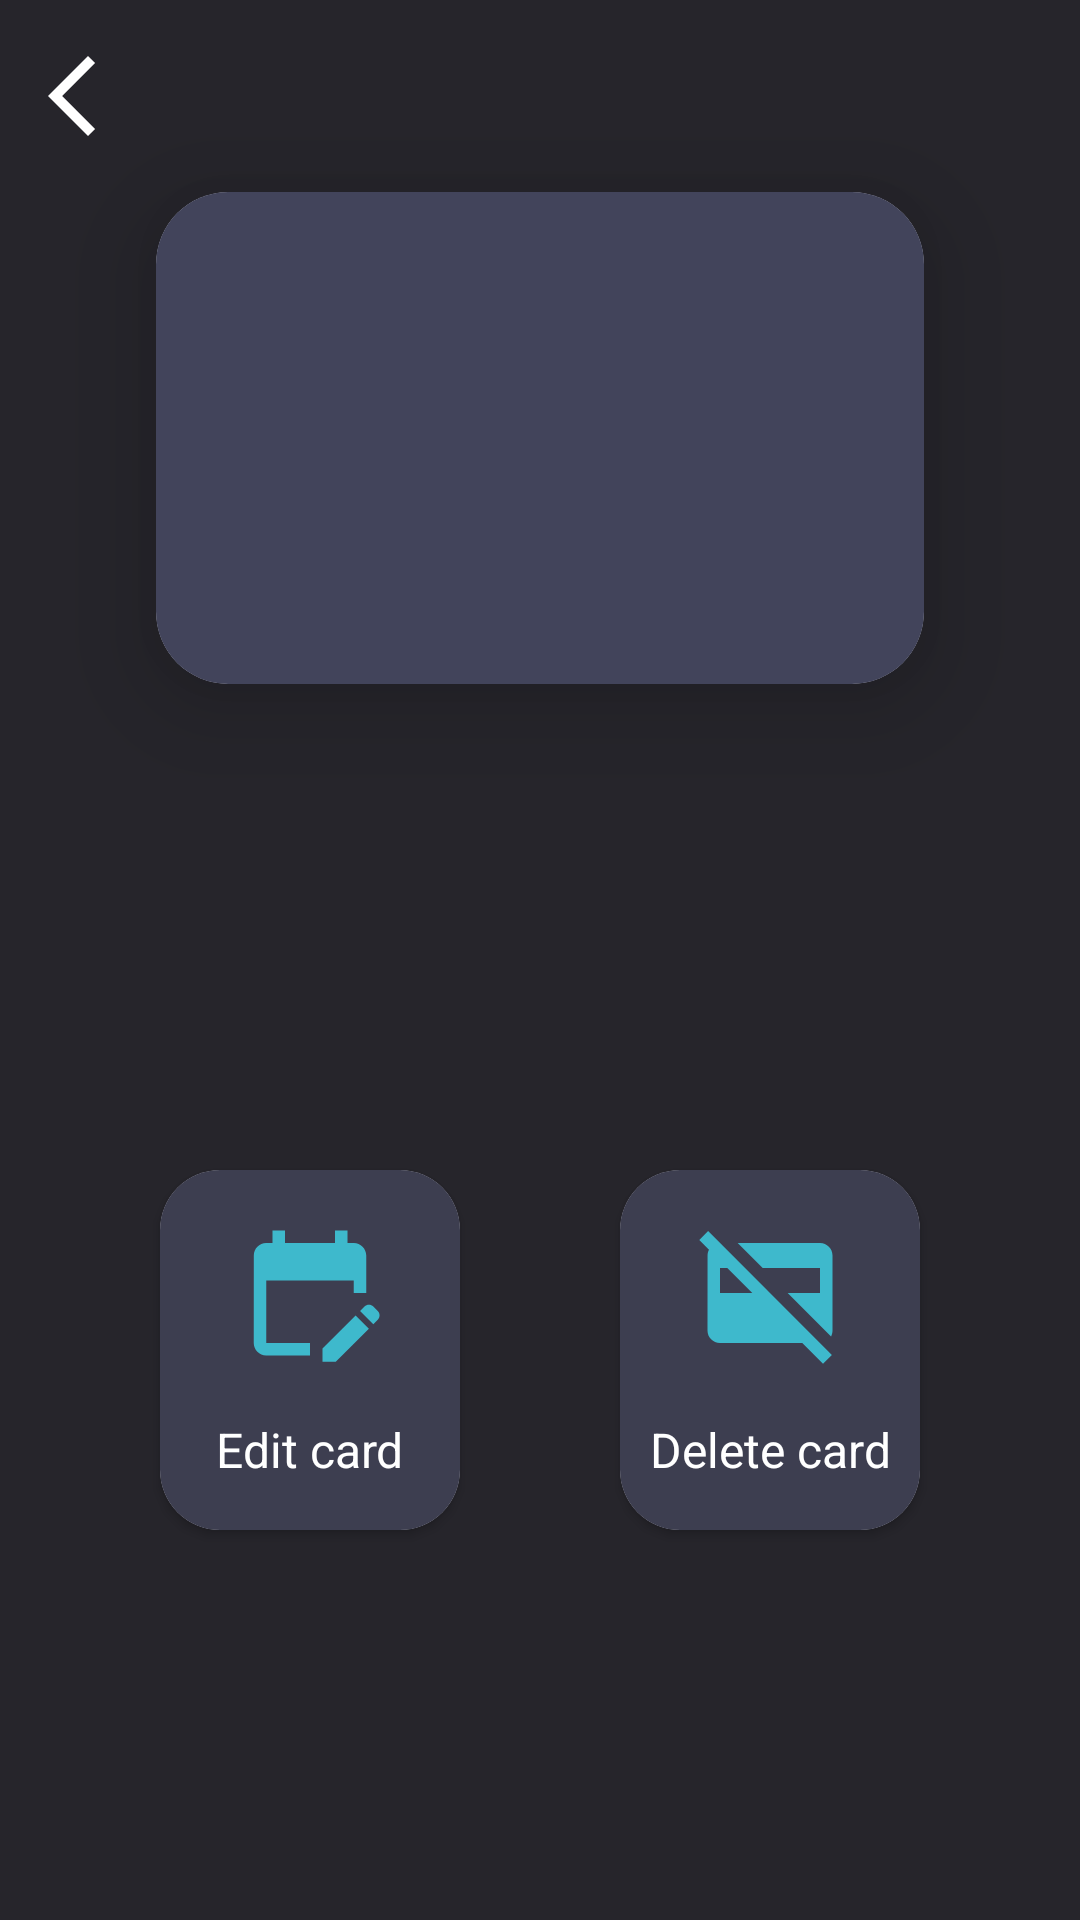

Where icons sit on this 1080*1920 app screen, as region(x1, y1, x2, y2):
back: region(48, 56, 95, 136)
